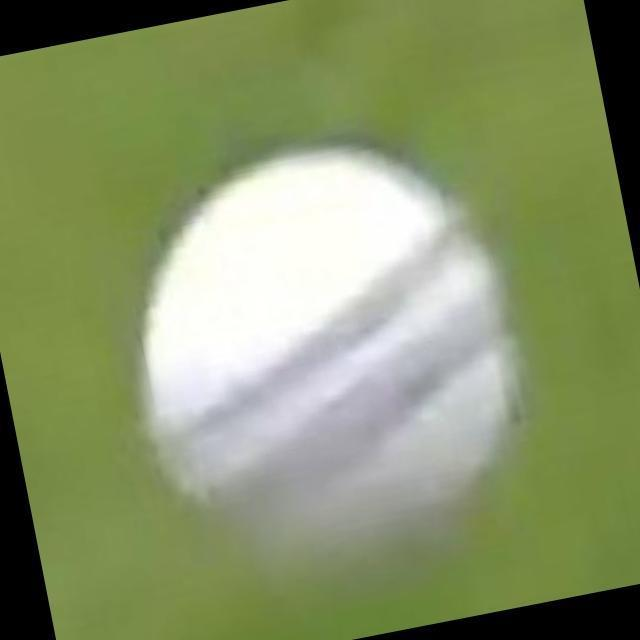-: (109, 123, 538, 552)
